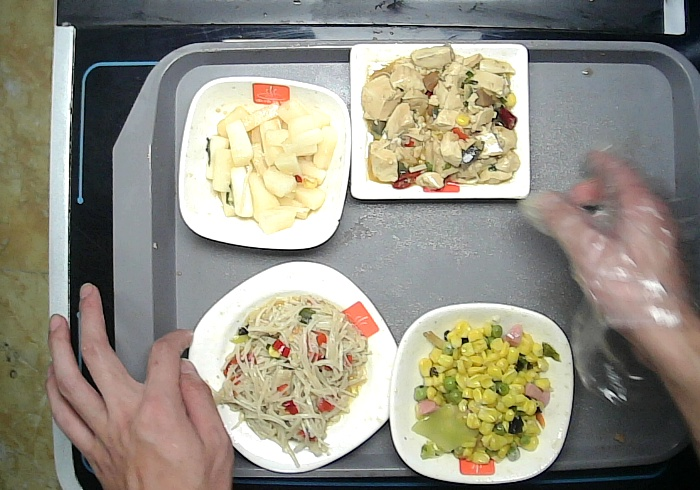SHKJ-Bai_Se_Cai_Die: (387, 300, 577, 485)
SHKJ-Bai_Se_Si_Fang_Cai_Die: (187, 258, 403, 474)
SHKJ-Bai_Se_Xiao_Fang_Die: (175, 74, 354, 251)
SHKJ-Si_Fang_Min: (349, 40, 532, 200)
